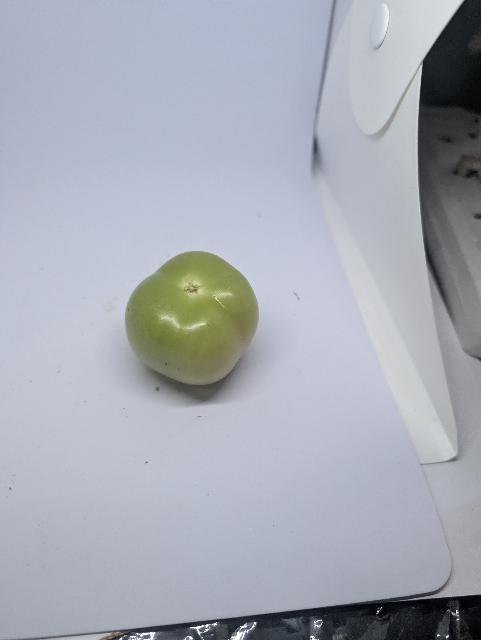green: (112, 234, 271, 398)
